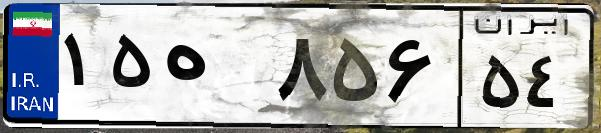1: (57, 26, 110, 100)
4: (525, 38, 570, 115)
5: (330, 28, 385, 110), (475, 38, 525, 113), (110, 28, 158, 98)
6: (385, 28, 445, 110)
8: (270, 28, 330, 110)
ه: (158, 20, 270, 120)
